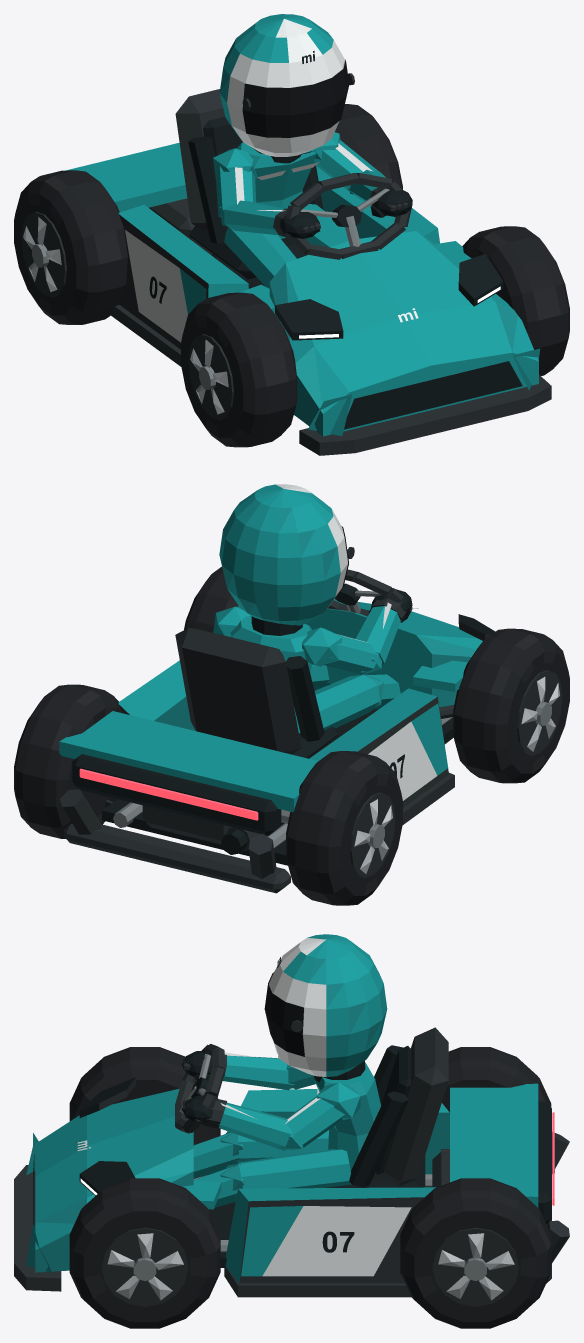
The model's file is SU7_Kart_LowPoly.glb.
3 renders of one model, top to bottom at view 1: azimuth 30°, elevation 25°; view 2: azimuth 150°, elevation 25°; view 3: azimuth 270°, elevation 25°, orthographic.
Visible parts, largest first — view 1: Nose | faceted sloping hood, Front L | tire, Rear L | tire, Helmet | faceted white and turquoise shell, Front R | tire, Front splitter | polygon outline, Helmet | wide dark wraparound visor, Sidepod -1, Front intake | trapezoid, Rear turquoise deck, White 07 side livery -1, Seat | back shell (+22 smaller); view 2: Helmet | faceted white and turquoise shell, Front L | tire, Rear L | tire, Rear turquoise deck, Seat | back shell, Rear R | tire, Nose | faceted sloping hood, Rear black light housing, Rear bumper beam, Sidepod -1, Sidepod 1, Driver thigh -1 (+21 smaller); view 3: Nose | faceted sloping hood, Front R | tire, Rear R | tire, Helmet | faceted white and turquoise shell, Rear turquoise deck, White 07 side livery 1, Sidepod 1, Seat | back shell, Front L | tire, Driver thigh 1, Front R | dark rim, Rear R | dark rim (+26 smaller).
Part boxes in pixels (x1,y1,x2,y2): Nose | faceted sloping hood: (269,231,538,436); Front L | tire: (181,292,297,447); Rear L | tire: (14,170,127,324); Helmet | faceted white and turquoise shell: (219,14,344,156); Front R | tire: (462,226,569,375); Front splitter | polygon outline: (299,375,551,455); Helmet | wide dark wraparound visor: (242,59,349,137); Sidepod -1: (118,204,248,349); Front intake | trapezoid: (344,361,522,429); Rear turquoise deck: (65,142,187,212); White 07 side livery -1: (125,230,187,342); Seat | back shell: (175,89,224,231); Helmet | faceted white and turquoise shell: (219,484,347,625); Front L | tire: (453,628,569,783); Rear L | tire: (286,751,402,905); Rear turquoise deck: (59,711,318,812); Seat | back shell: (175,628,301,754); Rear R | tire: (14,684,120,838); Nose | faceted sloping hood: (305,599,482,707); Rear black light housing: (72,754,281,835); Rear bumper beam: (64,823,290,893); Sidepod -1: (309,688,448,807); Sidepod 1: (108,660,195,802); Driver thigh -1: (314,674,380,730); Nose | faceted sloping hood: (35,1088,193,1272); Front R | tire: (69,1178,220,1328); Rear R | tire: (400,1178,551,1328); Helmet | faceted white and turquoise shell: (269,934,387,1077); Rear turquoise deck: (450,1083,538,1207); White 07 side livery 1: (262,1206,411,1276); Sidepod 1: (225,1187,436,1283); Seat | back shell: (384,1027,448,1186); Front L | tire: (69,1047,220,1144); Driver thigh 1: (238,1149,351,1188); Front R | dark rim: (101,1227,188,1306); Rear R | dark rim: (432,1227,518,1306).
Bounding box in the file's own units: 2.56 × 2.29 × 3.65.
